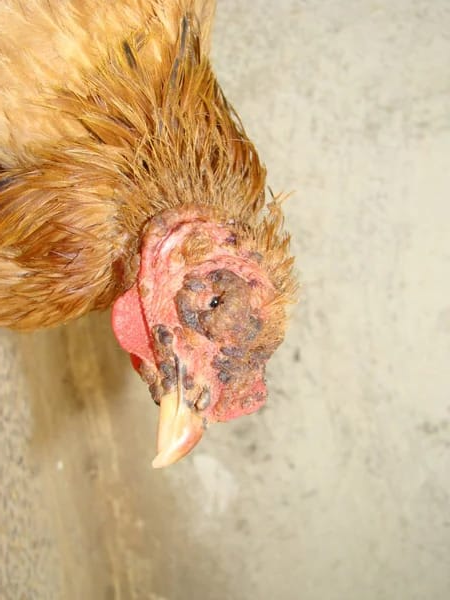Unhealthy: (1, 1, 358, 483)
